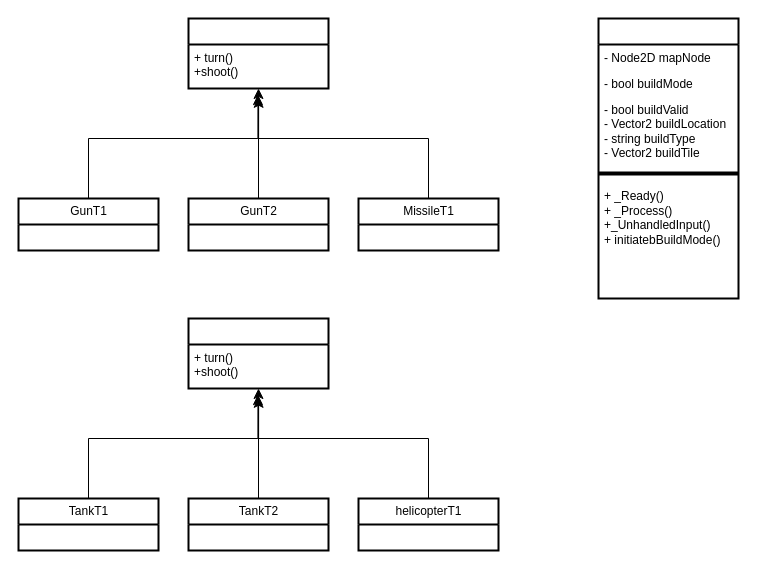
This 757x568 diagram has some shape labels left out. Each missing label, with the box of its shape:
Enemy: (187, 317, 329, 389)
GameScene: (597, 17, 739, 299)
Turret: (187, 17, 329, 89)
